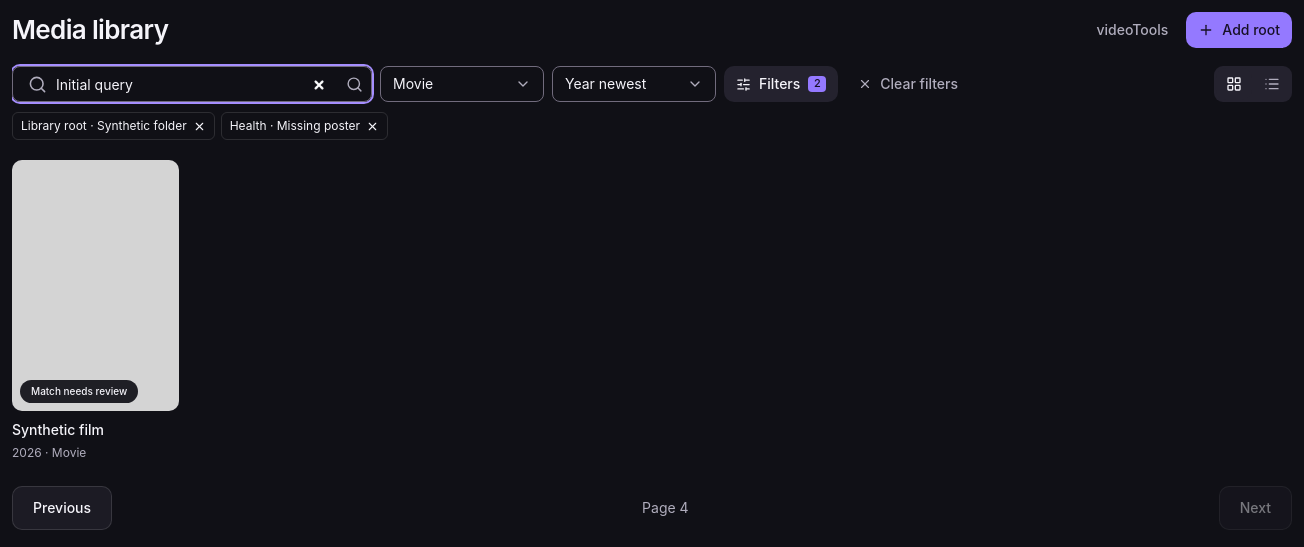
Scenario: submits library search explicitly without losing scope and clears drafts with filters
Replace the text in the search field named "Search titles" with "  Changed query  " at {"x": 192, "y": 84}, box [12,66,372,102]
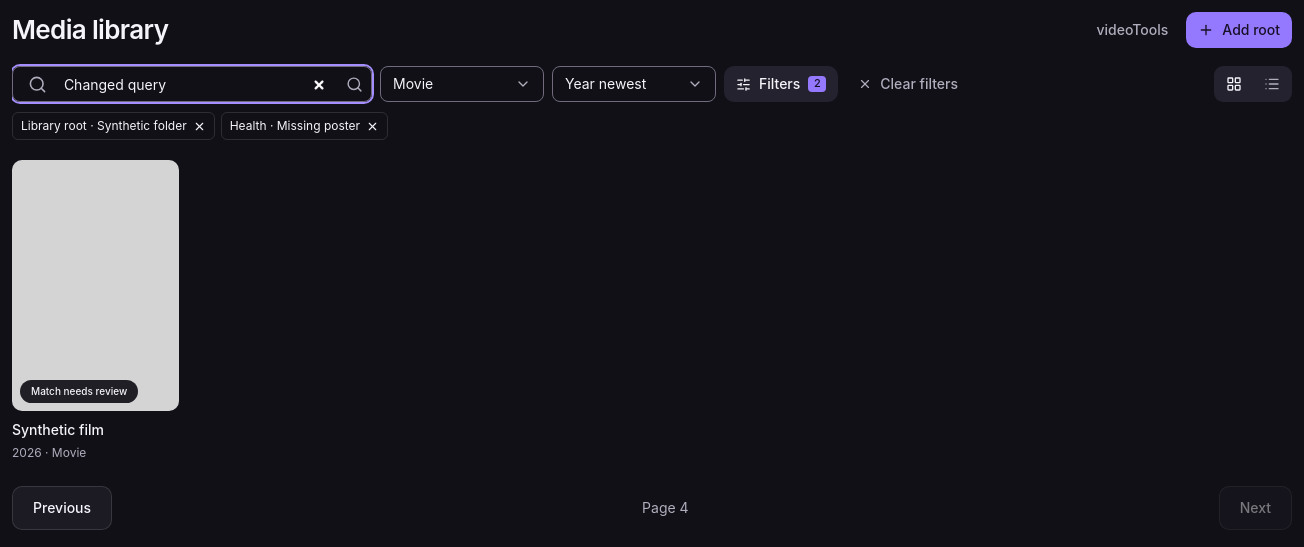
Submit the form, box [12,66,372,102]
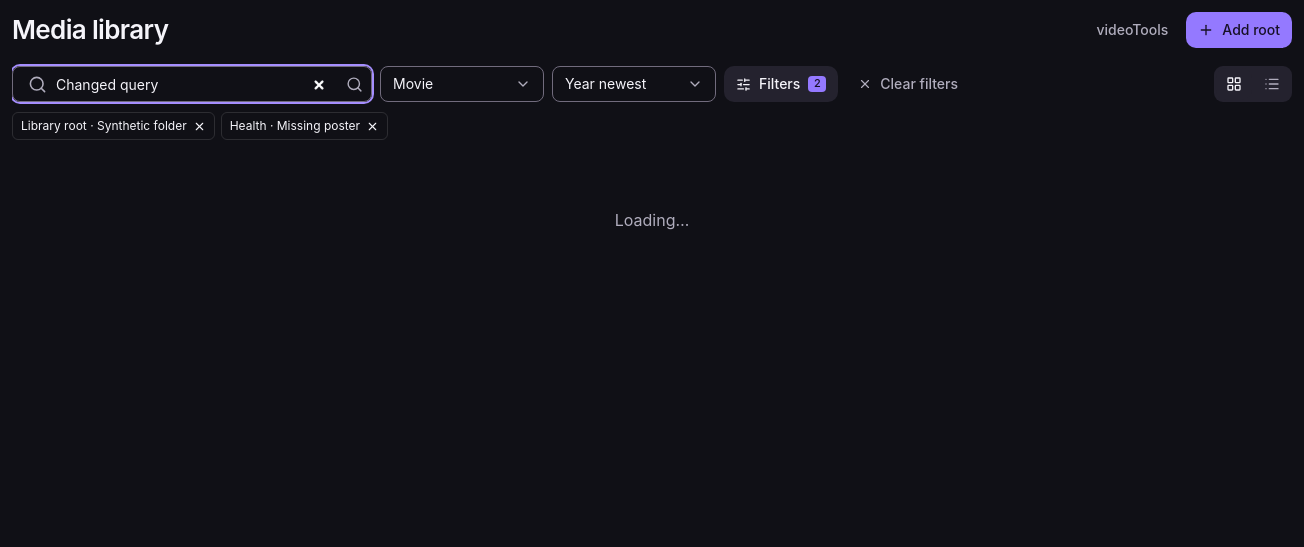
Replace the text in the search field named "Search titles" with "Unsubmitted draft" at {"x": 192, "y": 84}, box [12,66,372,102]
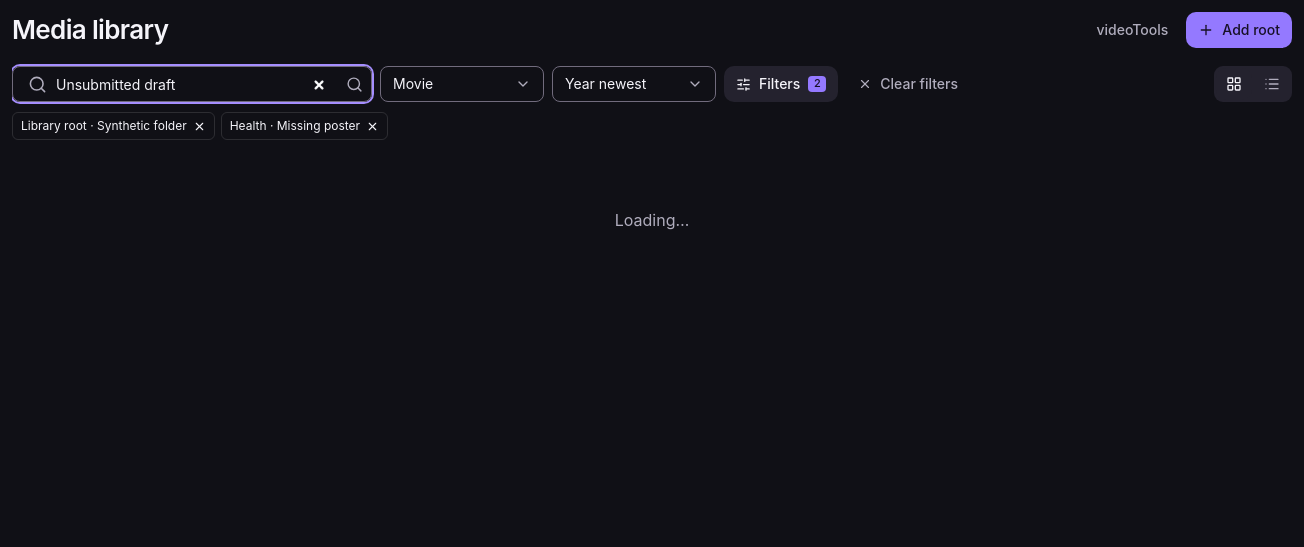
Click the button "Clear filters" at {"x": 908, "y": 84}, box [846,66,970,102]
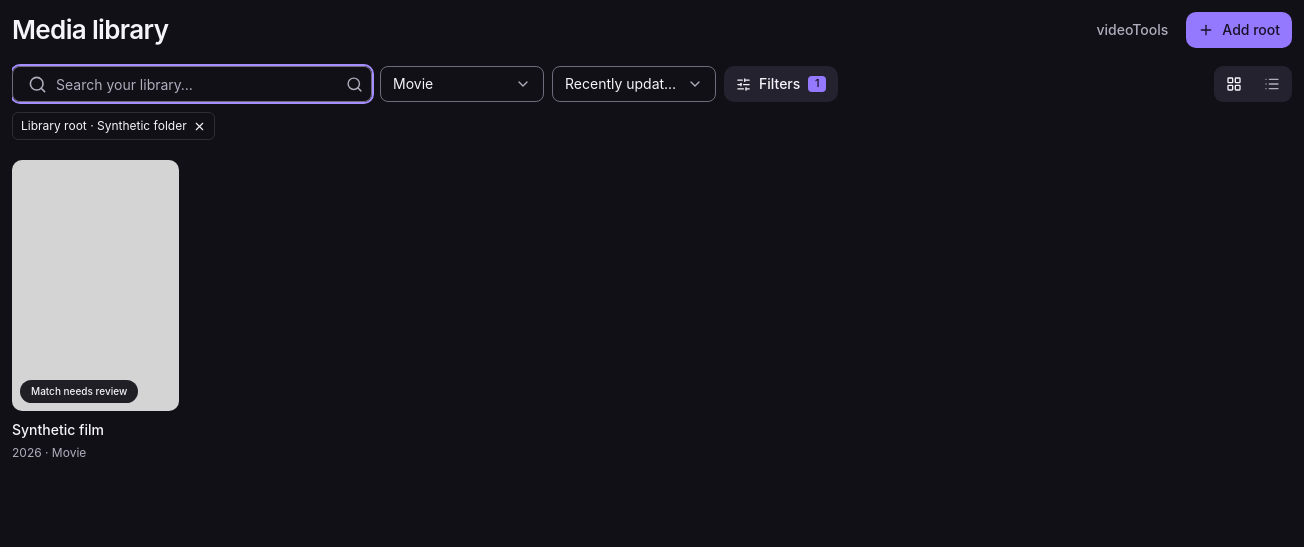
Result: the search field named "Search titles" is empty at [12,66,372,102]
Result: the button "Clear filters" is gone
